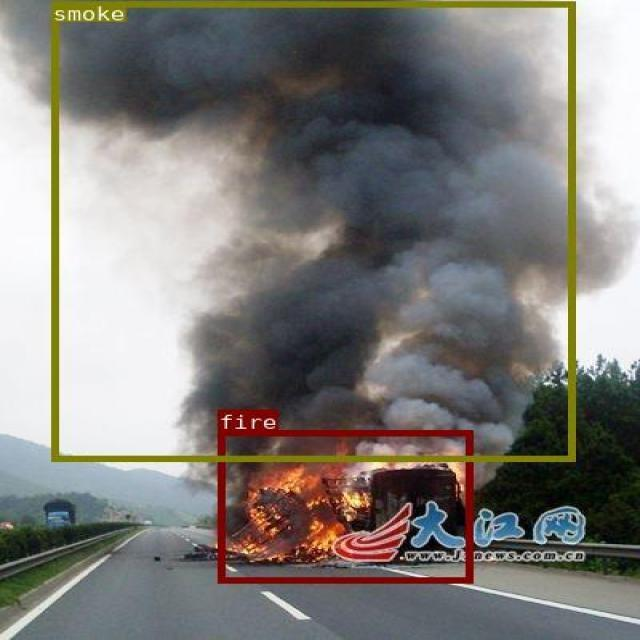fire: (217, 430, 472, 581)
smoke: (50, 1, 574, 460)
